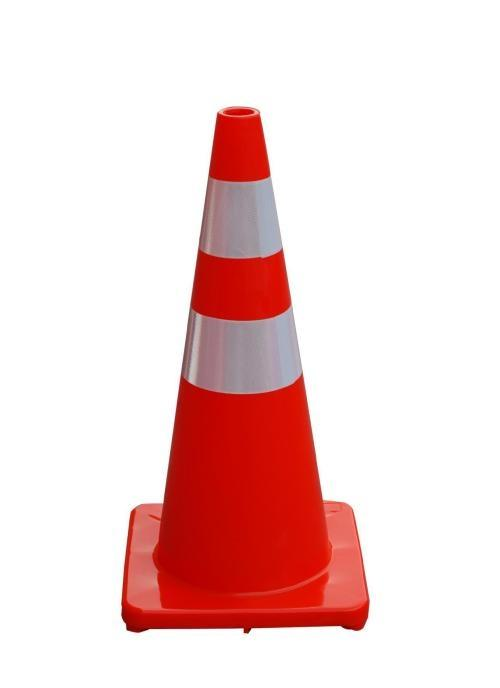cone_barrel: (144, 109, 346, 617)
